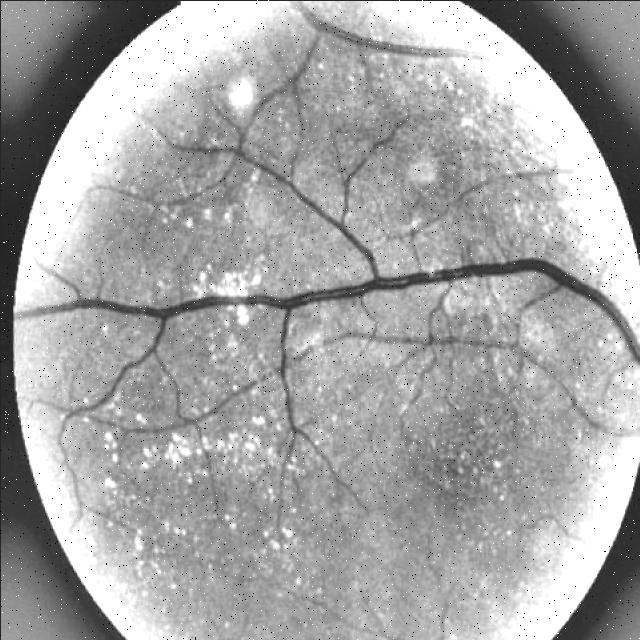Macula: (423, 420, 506, 515)
Nerves: (25, 256, 640, 369), (172, 116, 379, 273), (54, 327, 218, 506), (263, 318, 359, 505), (274, 0, 478, 67)
